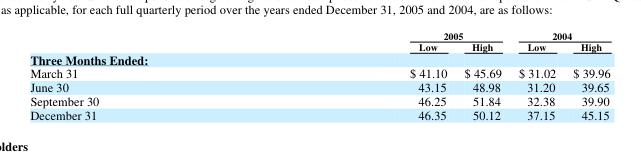table: (29, 28, 609, 122)
table column: (29, 28, 253, 122), (253, 28, 454, 122), (454, 28, 509, 122), (509, 28, 563, 122), (563, 28, 609, 122)
table column header: (29, 28, 609, 51)
table projected row header: (29, 51, 609, 65)
table row: (29, 107, 609, 122), (29, 51, 609, 65), (29, 65, 609, 79), (29, 79, 609, 93), (29, 93, 609, 107), (29, 28, 609, 40), (29, 40, 609, 51)
table spanning cell: (253, 28, 509, 40), (509, 28, 609, 40)
